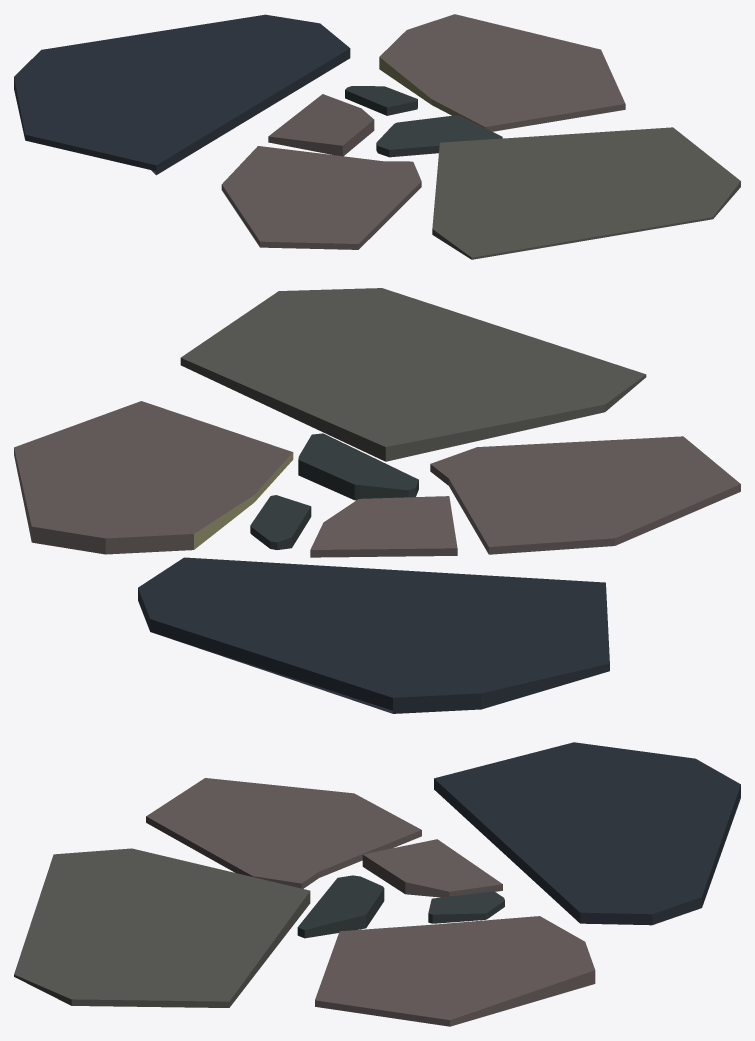
File: Broken Tile Set (5m).fbx
3 renders of one model, top to bottom at view 1: azimuth 30°, elevation 25°; view 2: azimuth 150°, elevation 25°; view 3: azimuth 270°, elevation 25°, orthographic. The views are drawn at different scales.
Parts seen in each view (by area): view 1: Broken Tile Set (5m); view 2: Broken Tile Set (5m); view 3: Broken Tile Set (5m).
Part boxes in pixels (box(x1,y1,x2,y2)): Broken Tile Set (5m): box(14, 14, 740, 259); Broken Tile Set (5m): box(14, 288, 740, 713); Broken Tile Set (5m): box(14, 742, 740, 1026).
Size of the model in its own units: 378 by 12.85 by 418.
